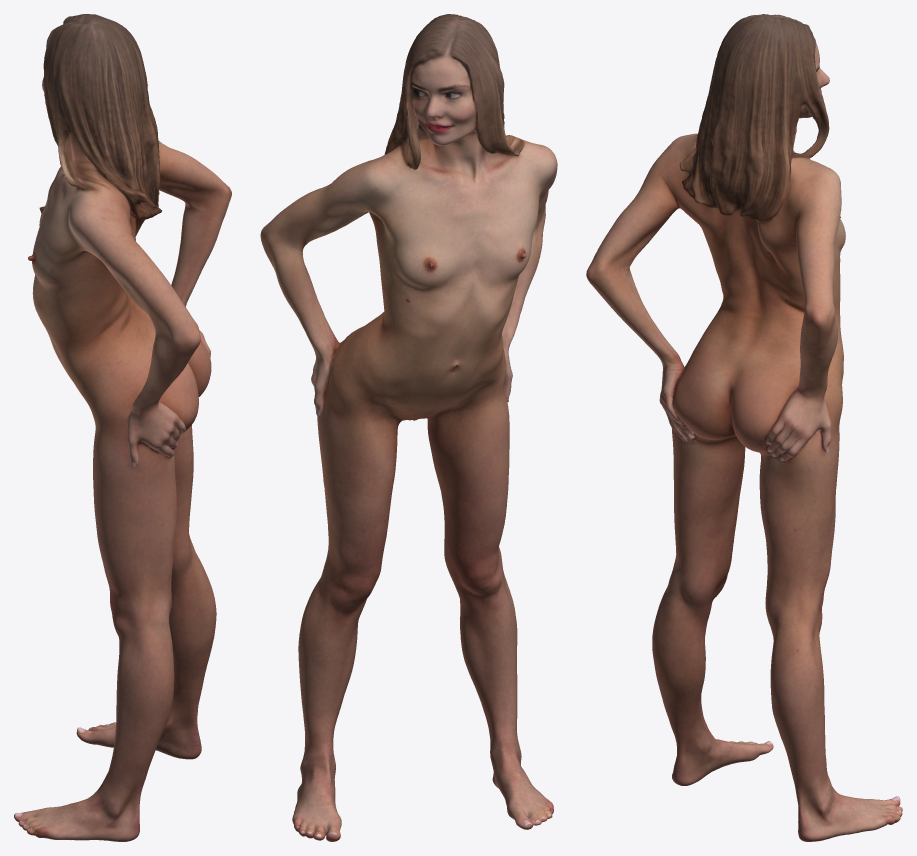
3 renders of one model, left to right at view 1: azimuth 30°, elevation 25°; view 2: azimuth 150°, elevation 25°; view 3: azimuth 270°, elevation 25°, orthographic. The views are drawn at different scales.
Parts seen in each view (by area): view 1: Group12270; view 2: Group12270; view 3: Group12270.
Part boxes in pixels (x1,y1,x2,y2): Group12270: (14,14,231,841); Group12270: (260,14,557,841); Group12270: (586,14,902,841).
Size of the model in its own units: 9.57 by 29.32 by 10.9.
1 material, 1 textured.
